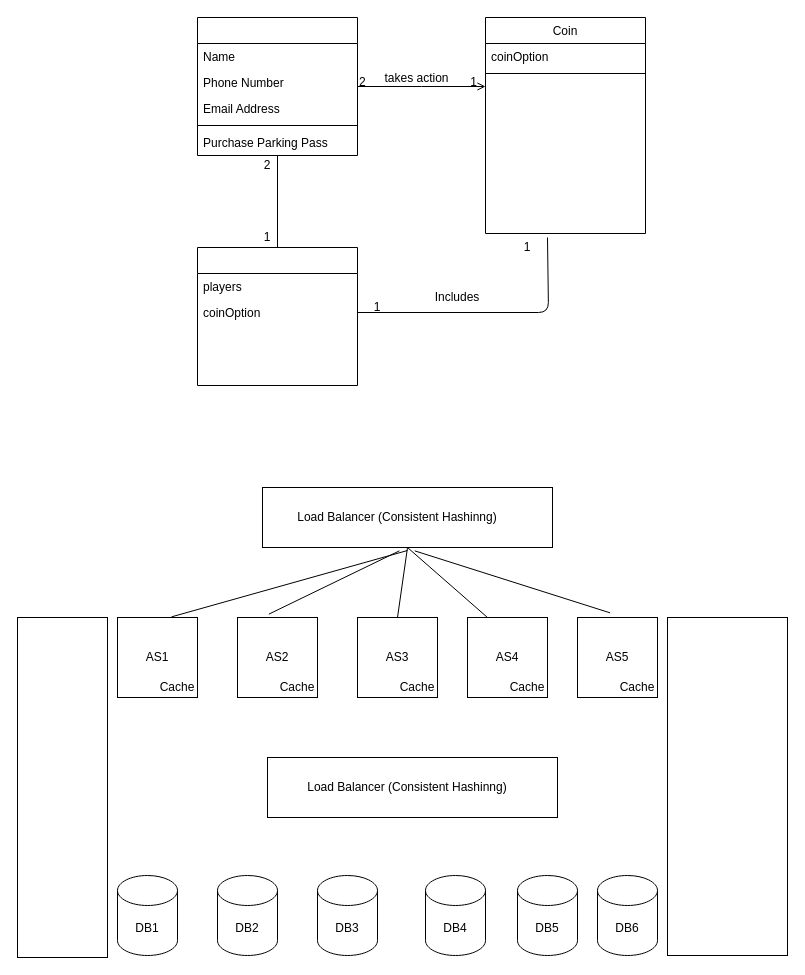
This 805x975 diagram has some shape labels left out. The shapes that lost their labels are listed below. From the top down, each one's box as (x1, y1, x2, y2) in pixels, then its label:
(196, 16, 358, 156): Player
(196, 246, 358, 386): Coin Game
(16, 616, 108, 958): File Storage
(666, 616, 788, 956): Global Cache
